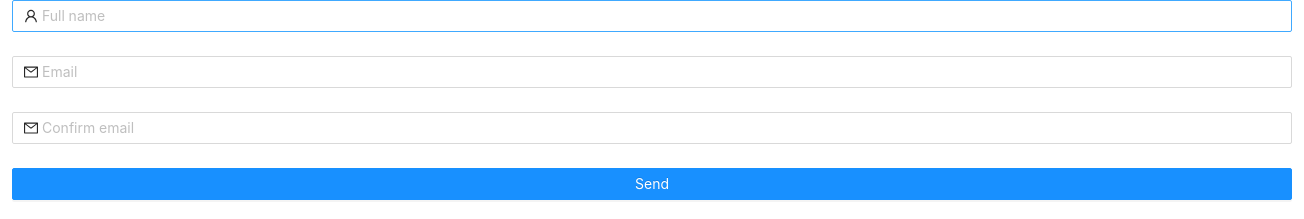
required input
Click the button "Send" at point(652, 184), box x1=12 y1=168 x2=1292 y2=200
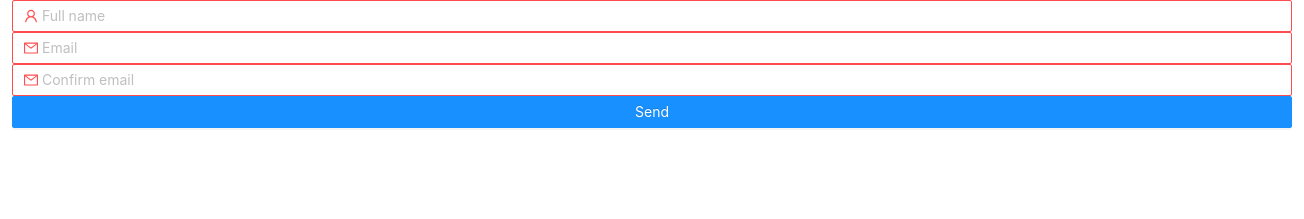
Now the text "The input is required!" is shown, box x1=12 y1=34 x2=152 y2=51
